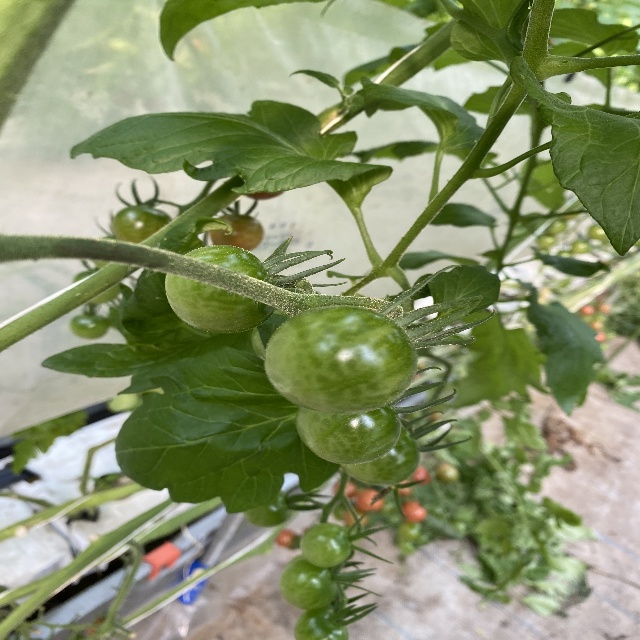l_green: (265, 306, 420, 416), (164, 245, 276, 334), (294, 404, 404, 466), (338, 425, 419, 485), (281, 553, 339, 610), (301, 522, 353, 566), (112, 205, 172, 243), (293, 606, 349, 639), (245, 492, 296, 527)
